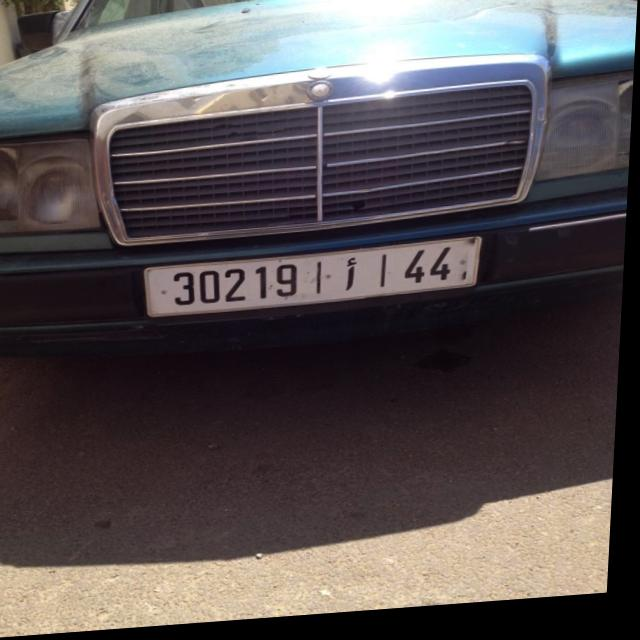License-Plate: (149, 244, 484, 319)
